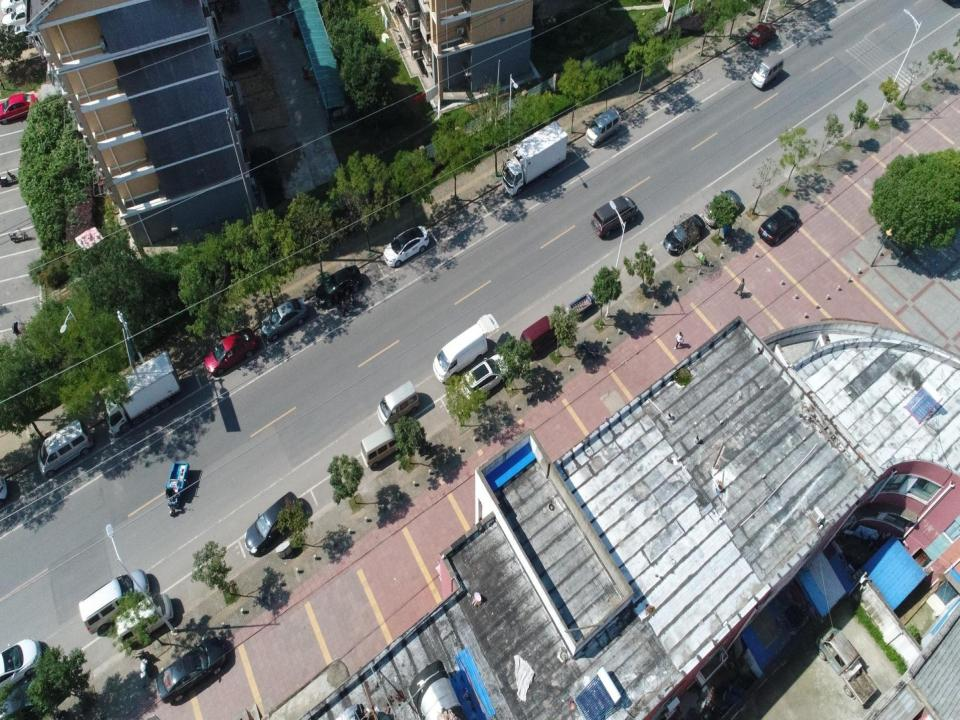car: (155, 636, 227, 704), (244, 491, 301, 558), (203, 326, 257, 377), (460, 351, 509, 403), (0, 636, 44, 692), (260, 296, 308, 342), (314, 264, 362, 308), (383, 225, 430, 269), (663, 214, 706, 257), (758, 204, 800, 246), (703, 189, 741, 228), (0, 92, 39, 124), (223, 44, 261, 74), (746, 21, 777, 49), (1, 9, 36, 27)
truck: (101, 349, 181, 437), (500, 120, 568, 196)
van: (78, 568, 150, 638), (432, 314, 502, 384), (114, 592, 175, 648), (36, 418, 90, 478), (360, 422, 406, 470), (590, 193, 639, 238), (375, 379, 420, 426), (584, 104, 622, 148), (519, 313, 558, 355), (751, 51, 785, 89)
